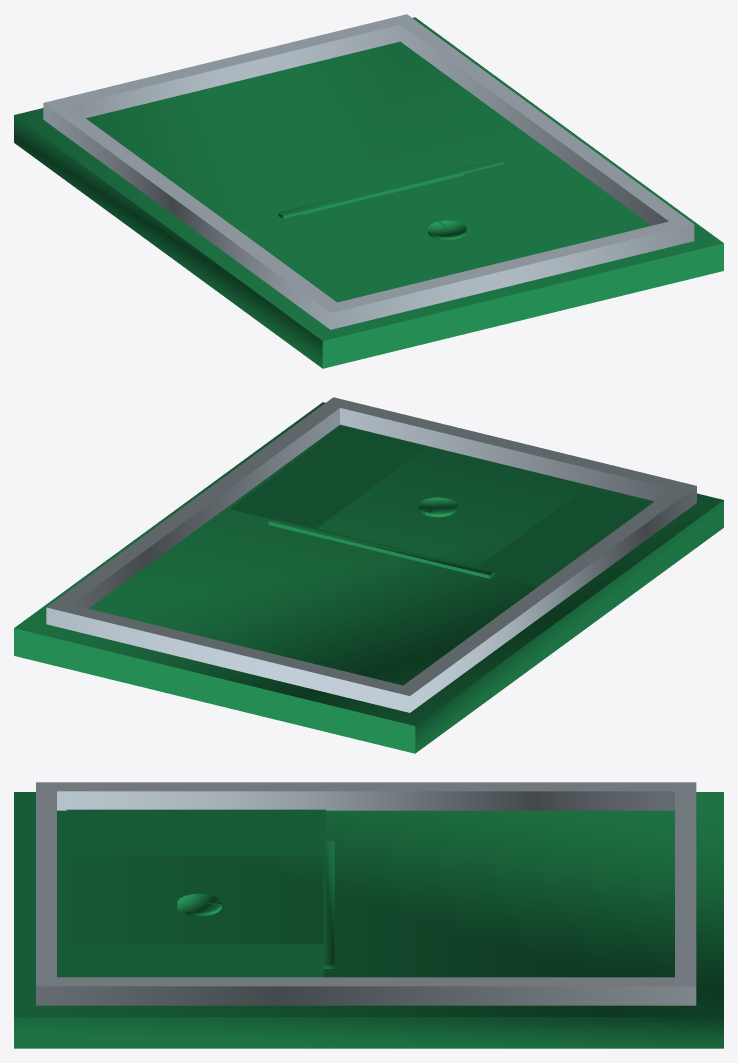
Rendered from Level34.fbx.
3 views of the same model, one above another, from view 1: azimuth 30°, elevation 25°; view 2: azimuth 150°, elevation 25°; view 3: azimuth 270°, elevation 25° (orthographic). The views are drawn at different scales.
Parts seen in each view (by area): view 1: Box002, Rectangle0; view 2: Box002, Rectangle0; view 3: Box002, Rectangle0.
Part boxes in pixels (box(x1,y1,x2,y2)): Box002: box(14, 17, 723, 368); Rectangle0: box(43, 14, 694, 329); Box002: box(14, 402, 723, 753); Rectangle0: box(46, 397, 696, 712); Box002: box(14, 792, 723, 1048); Rectangle0: box(36, 782, 696, 1005).
Size of the model in its own units: 135 by 14.27 by 180.
